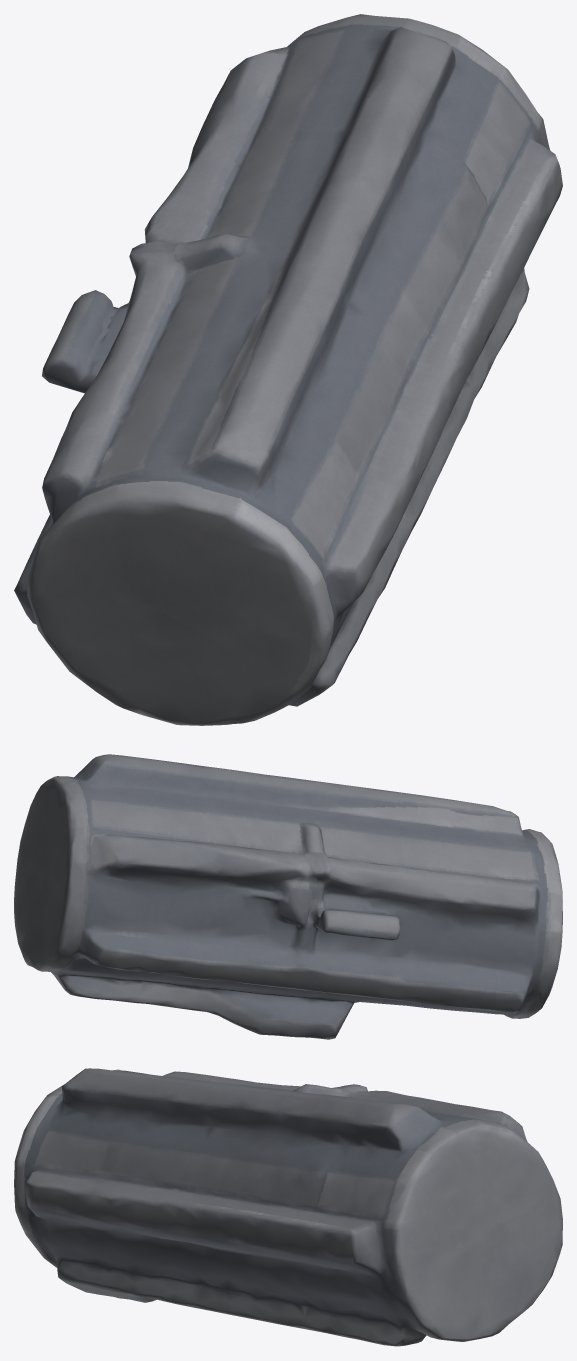
Rendered from scrapper_roller_raw.glb.
3 views of the same model, one above another, from view 1: azimuth 30°, elevation 25°; view 2: azimuth 150°, elevation 25°; view 3: azimuth 270°, elevation 25° (orthographic). The views are drawn at different scales.
Size of the model in its own units: 0.9002 by 0.5544 by 0.8778.
Materials: 1 (1 with a texture image).
